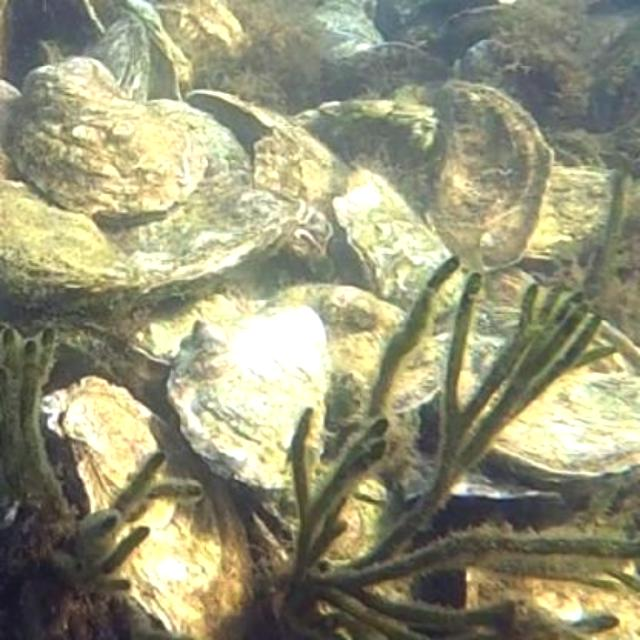Oyster-Closed: (38, 383, 254, 640), (15, 61, 209, 229), (170, 292, 326, 484), (271, 283, 447, 429), (112, 171, 305, 303), (449, 369, 640, 477), (435, 92, 546, 277), (334, 178, 469, 317), (0, 190, 132, 306), (92, 13, 151, 100), (139, 16, 196, 95)
Oyster-Open: (150, 84, 283, 180)
